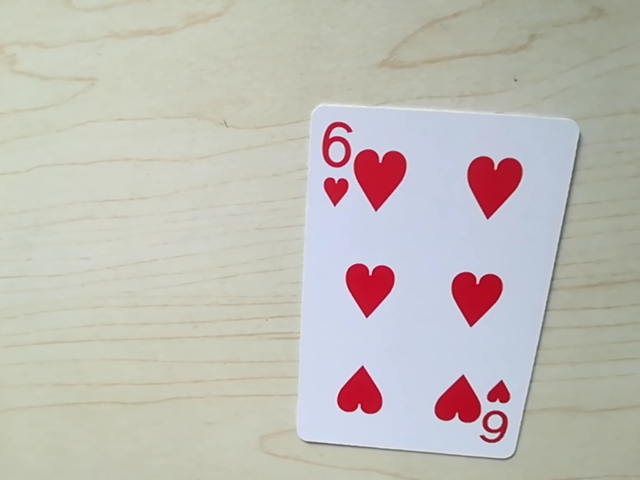hx 6: (311, 116, 360, 181), (471, 397, 513, 451)
